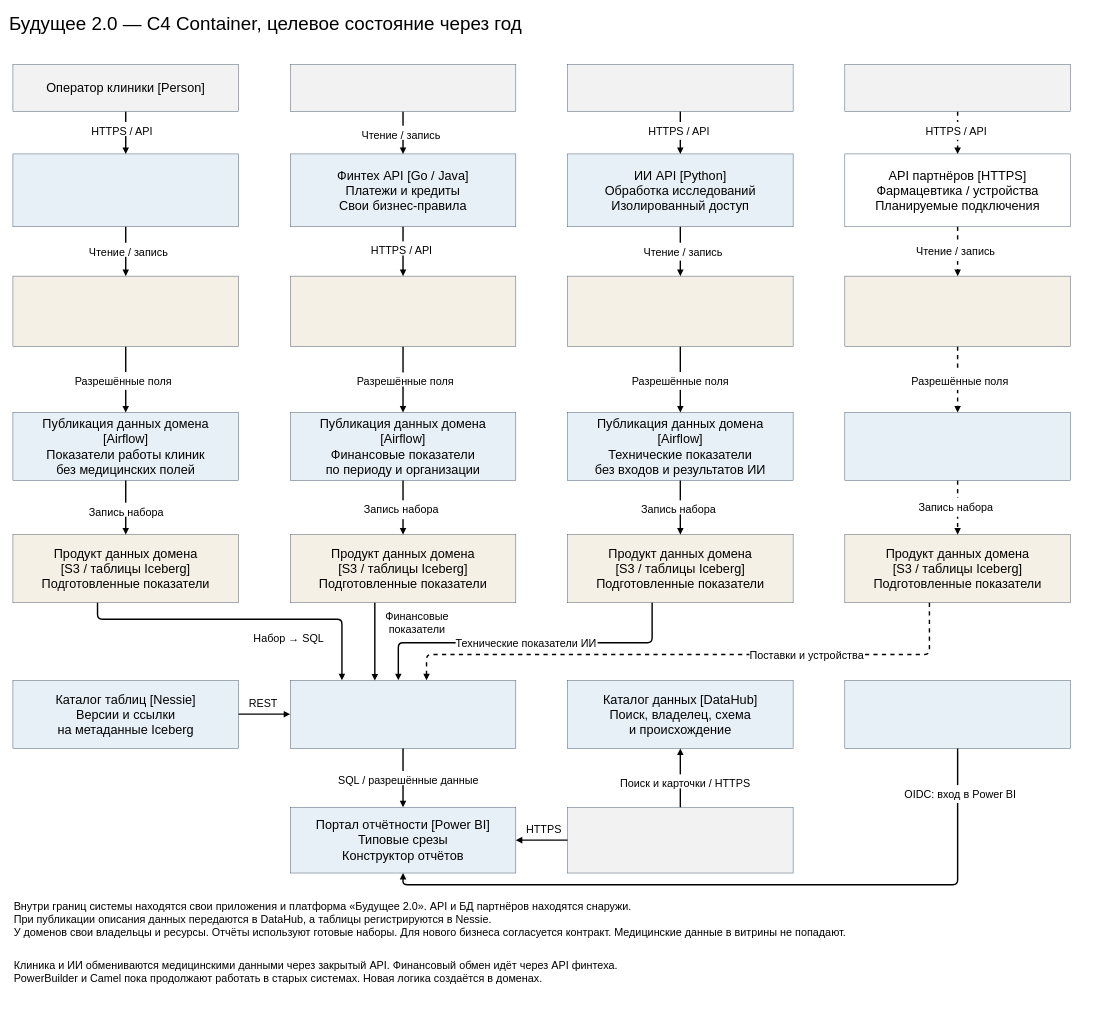
This 1106x1019 diagram has some shape labels left out. Each missing label, with the box of its shape:
API клиники [Java] Приём и счета Адаптер к старой системе: (12, 153, 239, 227)
SQL-движок [Dremio] Доступ по роли и домену Кэш / ограничения запросов: (290, 680, 516, 748)
БД партнёров [внешние системы] Поставки и устройства: (844, 276, 1070, 347)
БД финтеха [PostgreSQL] Счета, платежи, кредиты: (290, 276, 516, 347)
Клиент финтеха [Person]: (290, 64, 516, 112)
Клиническая БД [SQL Server] Карты, история, снимки: (12, 276, 239, 347)
Клиническая система [System]: (567, 64, 793, 112)
Корпоративный вход [OIDC] Учётная запись и группы Аудит действий: (844, 680, 1070, 748)
Публикация данных домена [Airflow] Поставки / устройства без данных пациентов: (844, 412, 1070, 481)
Системы партнёров [System]: (844, 64, 1070, 112)
Сотрудник / аналитик головного офиса или домена [Person]: (567, 807, 793, 873)
Хранилище ИИ [объекты / PostgreSQL] Данные для ИИ и результаты обработки: (567, 276, 793, 347)
